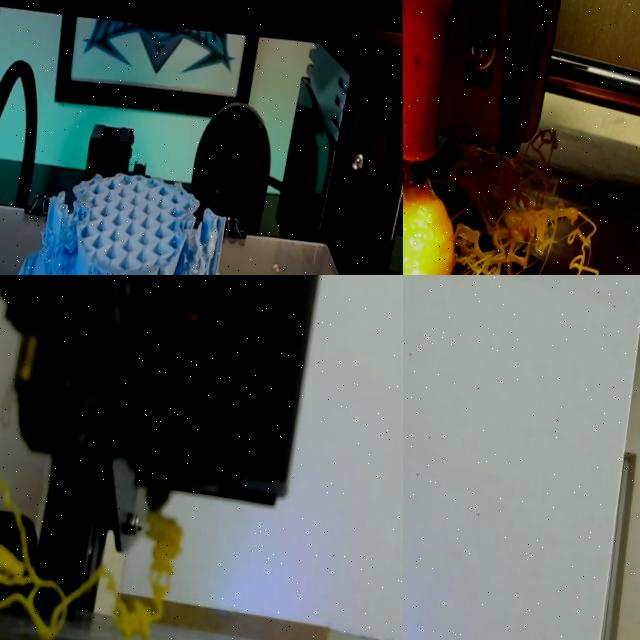spaghetti: (0, 471, 183, 640), (403, 139, 626, 275)
